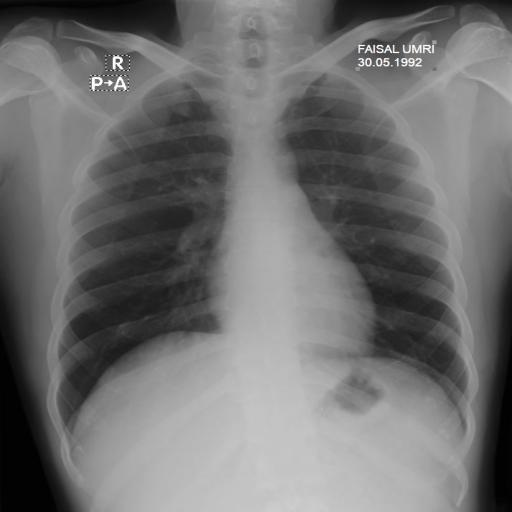normal: (48, 40, 483, 446)
